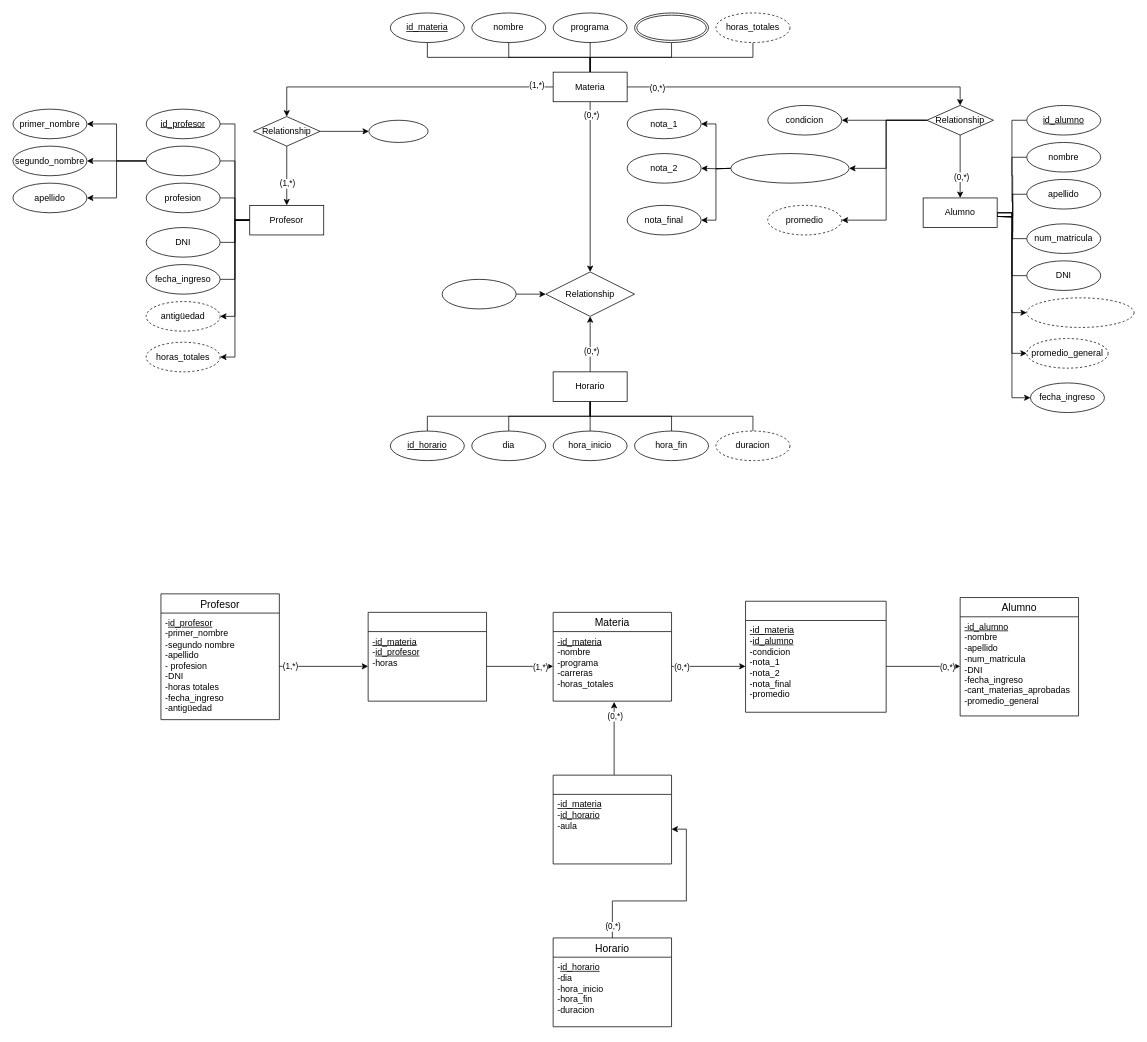
Some shapes in this 1147 by 1042 pixel diagram are drawn without their labels. The shapes that lost their labels are listed below. From the top down, each one's box as (x1, y1, x2, y2) in pixels, then its label:
(634, 12, 709, 43): carreras
(368, 120, 428, 142): horas
(145, 145, 220, 176): nombre_completo
(730, 153, 849, 183): conjunto_de_calificaciones
(441, 279, 516, 309): aula
(1026, 297, 1134, 327): cant_materias_aprobadas
(367, 612, 487, 701): ProfesorxMateria
(745, 601, 886, 712): AlumnoxMateria
(552, 774, 672, 864): HorarioxMateria
